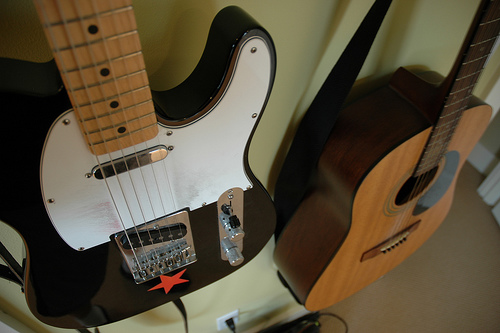guitar: (272, 1, 497, 315)
